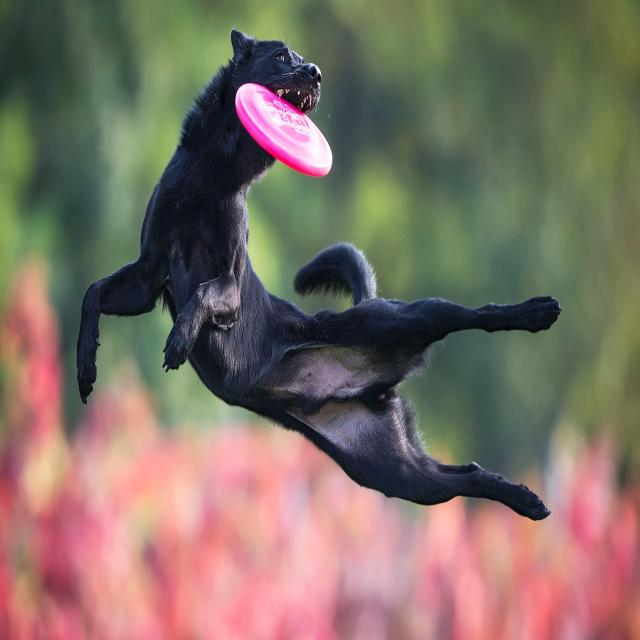Dog: (226, 21, 340, 189)
